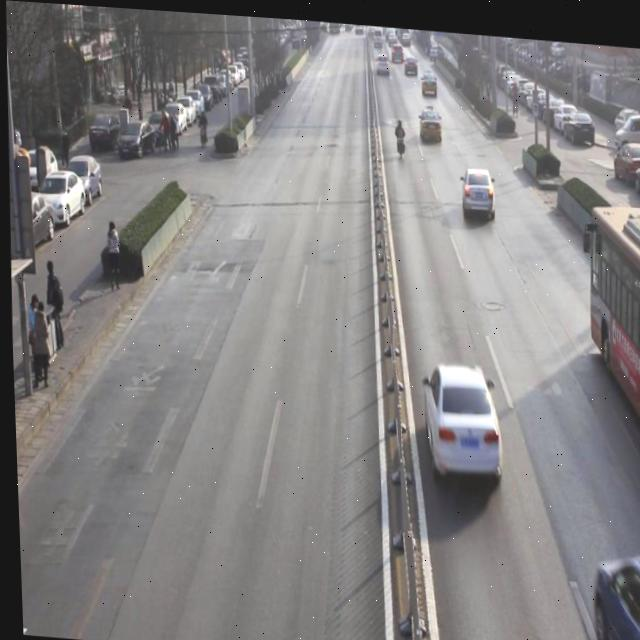car: (417, 351, 505, 489), (586, 526, 640, 640), (459, 155, 498, 219), (417, 101, 443, 142), (374, 44, 392, 74), (419, 64, 436, 89), (403, 48, 418, 73)
van: (579, 189, 640, 461)
